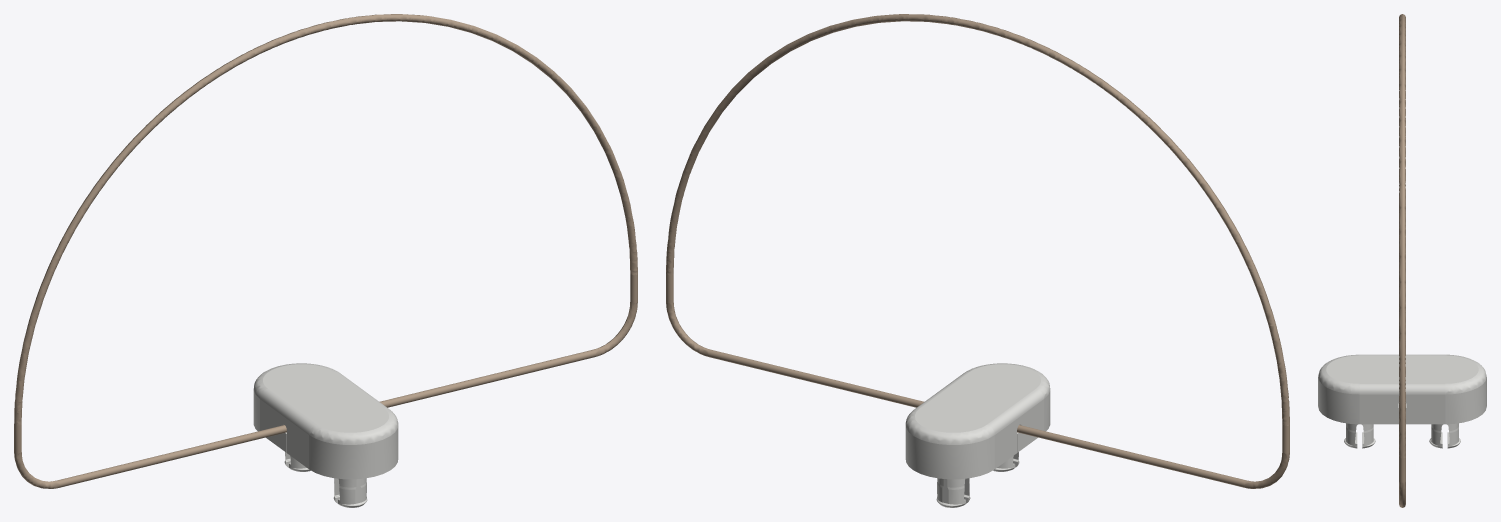
The model's file is Ant Rear Antenna (228-2500-321).glb.
3 views of the same model, side by side, from view 1: azimuth 30°, elevation 25°; view 2: azimuth 150°, elevation 25°; view 3: azimuth 270°, elevation 25° (orthographic). The views are drawn at different scales.
Visible parts, largest first — view 1: Ant Rear Antenna (228-2500-321); view 2: Ant Rear Antenna (228-2500-321); view 3: Ant Rear Antenna (228-2500-321).
Boxes of the visible parts, bbox=[...] form: Ant Rear Antenna (228-2500-321): bbox=[14, 14, 637, 507]; Ant Rear Antenna (228-2500-321): bbox=[666, 14, 1289, 507]; Ant Rear Antenna (228-2500-321): bbox=[1318, 14, 1486, 507].
Bounding box in the file's own units: 3.66 × 2.59 × 0.9882.
